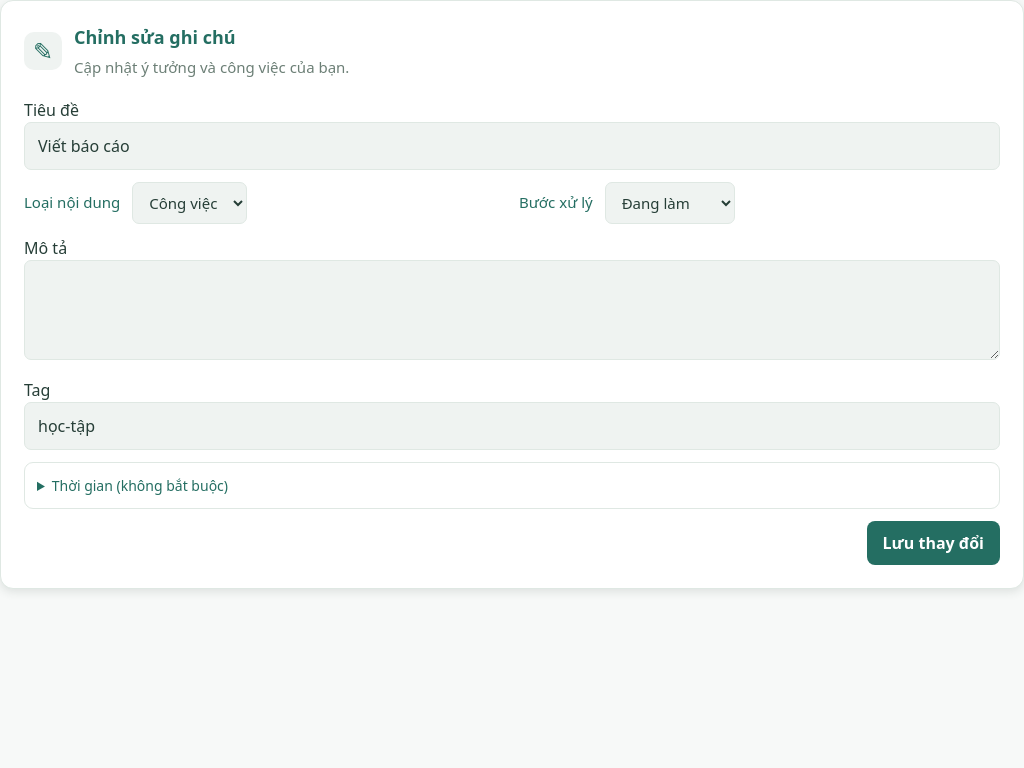
Test case: NoteForm workflow › keeps a manually entered new tag after a storage failure
Step 1. Replace the text in the field labelled "Tag" with "âm nhạc" → x=512, y=426, box [24,402,1000,450]
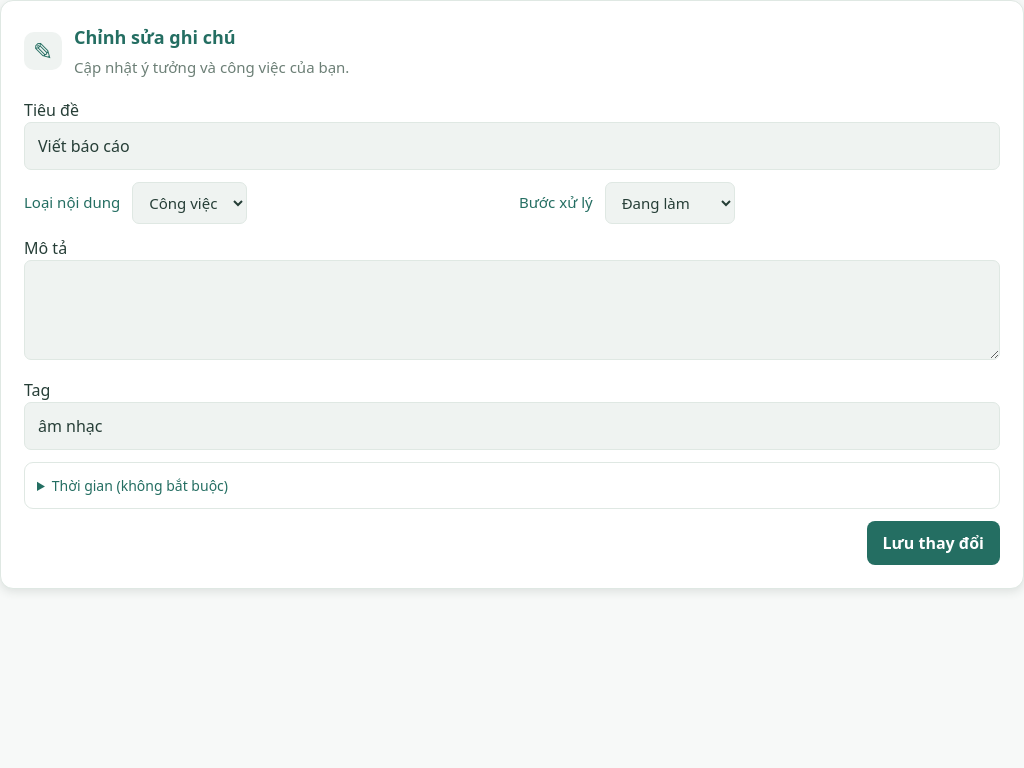
Step 2. Click the button "Lưu thay đổi" → x=933, y=543, box [867,521,1000,565]
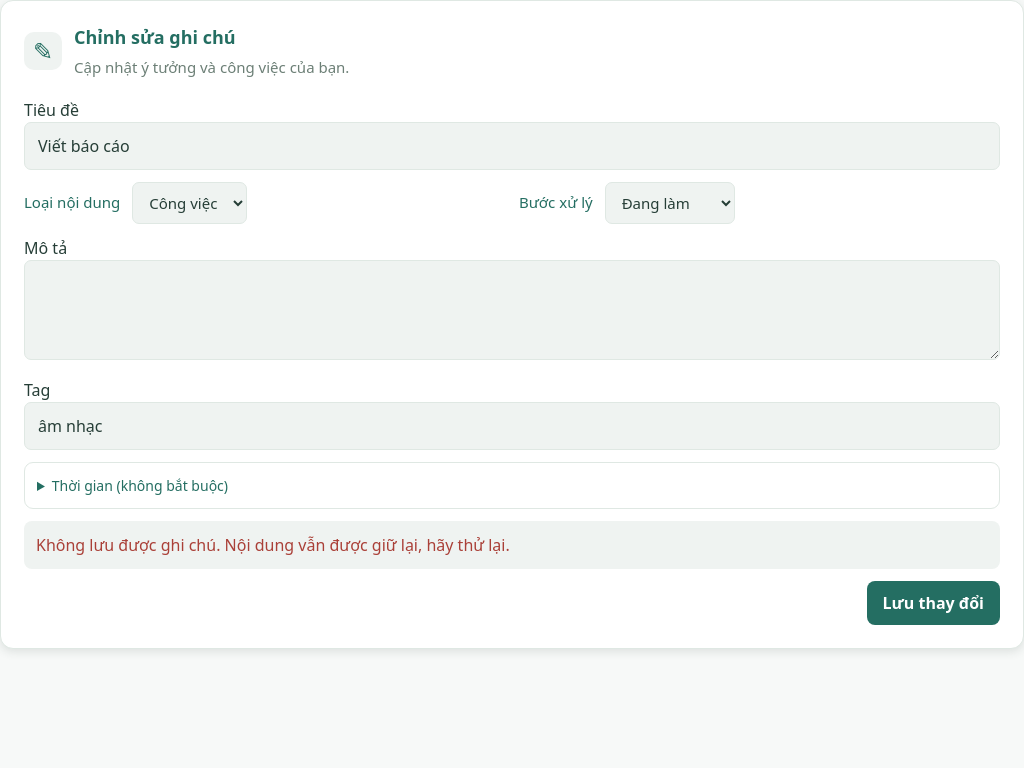
Expected: the message "Không lưu được ghi chú. Nội dung vẫn được giữ lại, hãy thử lại." is shown, [24,521,1000,569]
